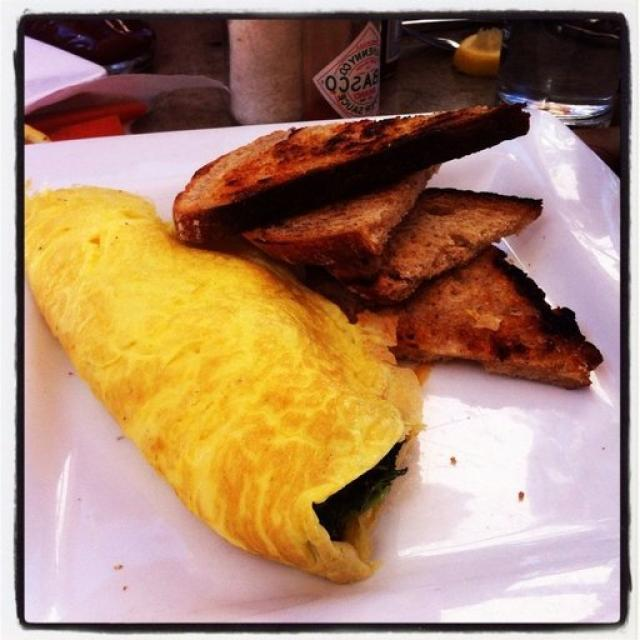telur_ayam_dadar: (19, 185, 422, 589)
